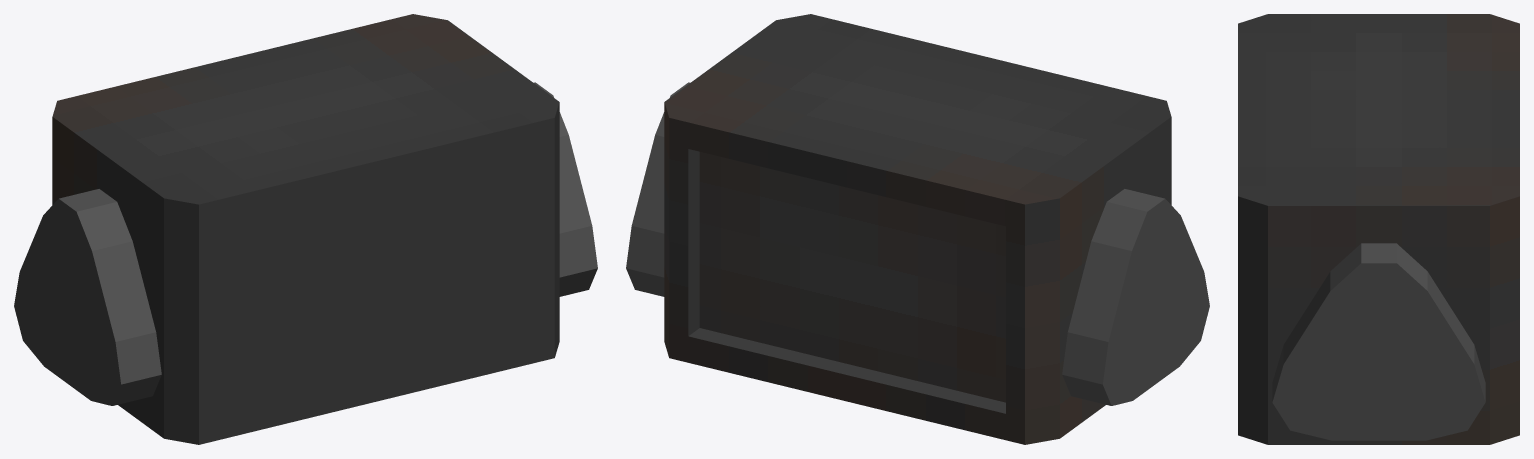
The model's file is press_carriage.obj.
3 views of the same model, side by side, from view 1: azimuth 30°, elevation 25°; view 2: azimuth 150°, elevation 25°; view 3: azimuth 270°, elevation 25° (orthographic).
Visible parts, largest first — view 1: Цилиндр.007; view 2: Цилиндр.007; view 3: Цилиндр.007.
Part boxes in pixels (x1=…): Цилиндр.007: x1=14, y1=14, x2=597, y2=444; Цилиндр.007: x1=626, y1=14, x2=1209, y2=444; Цилиндр.007: x1=1238, y1=14, x2=1519, y2=444.
Size of the model in its own units: 0.757 by 0.3957 by 0.3898.
